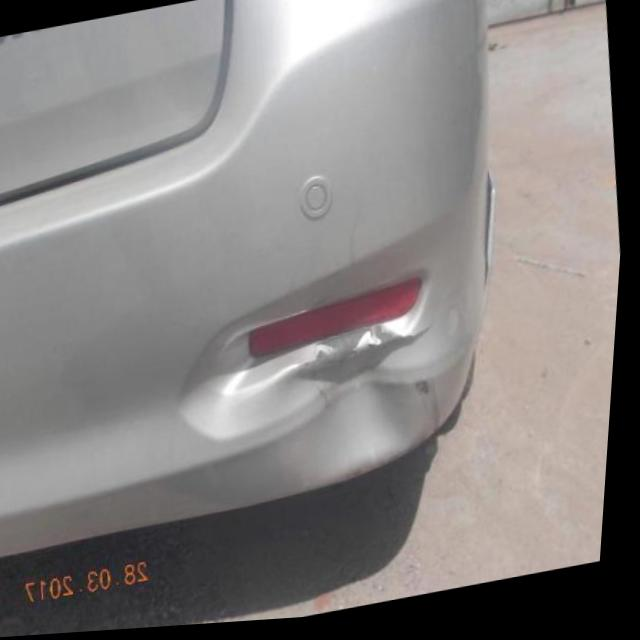Car-Damage: (227, 315, 457, 505)
